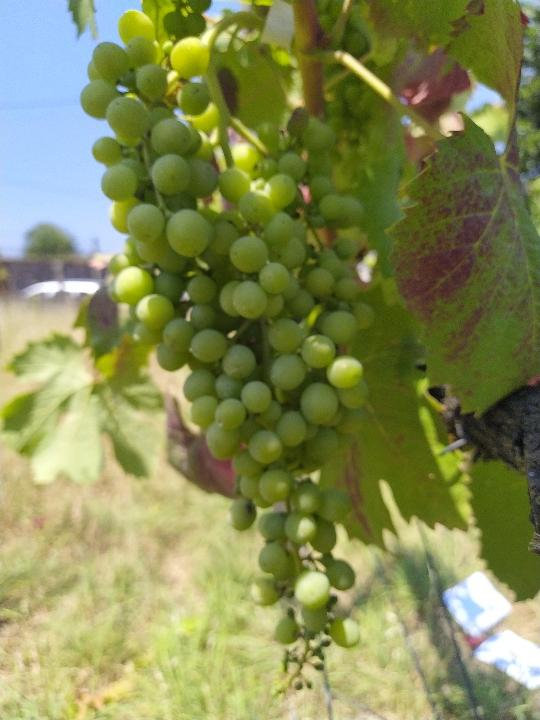grape: (79, 8, 371, 693)
